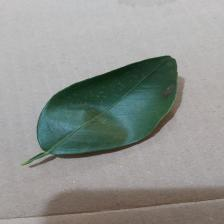healthy: (36, 57, 187, 169)
